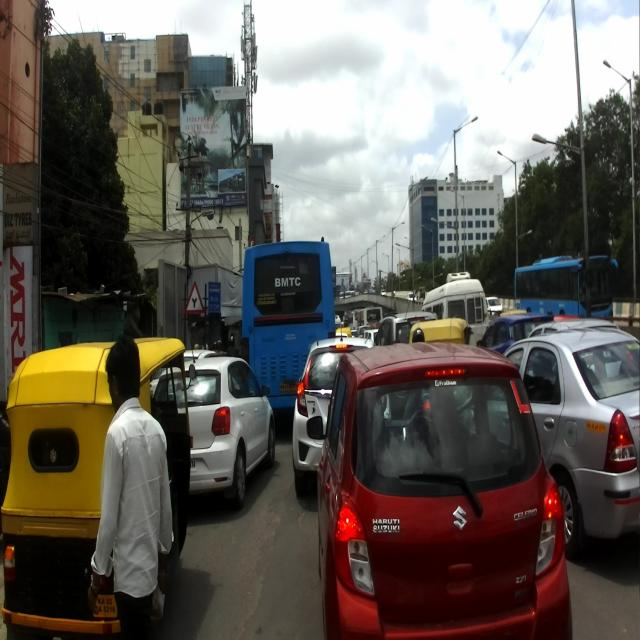autorickshaw: (1, 337, 196, 637)
bus: (243, 239, 337, 388)
car: (305, 339, 574, 637), (503, 328, 638, 558), (152, 335, 276, 511)
